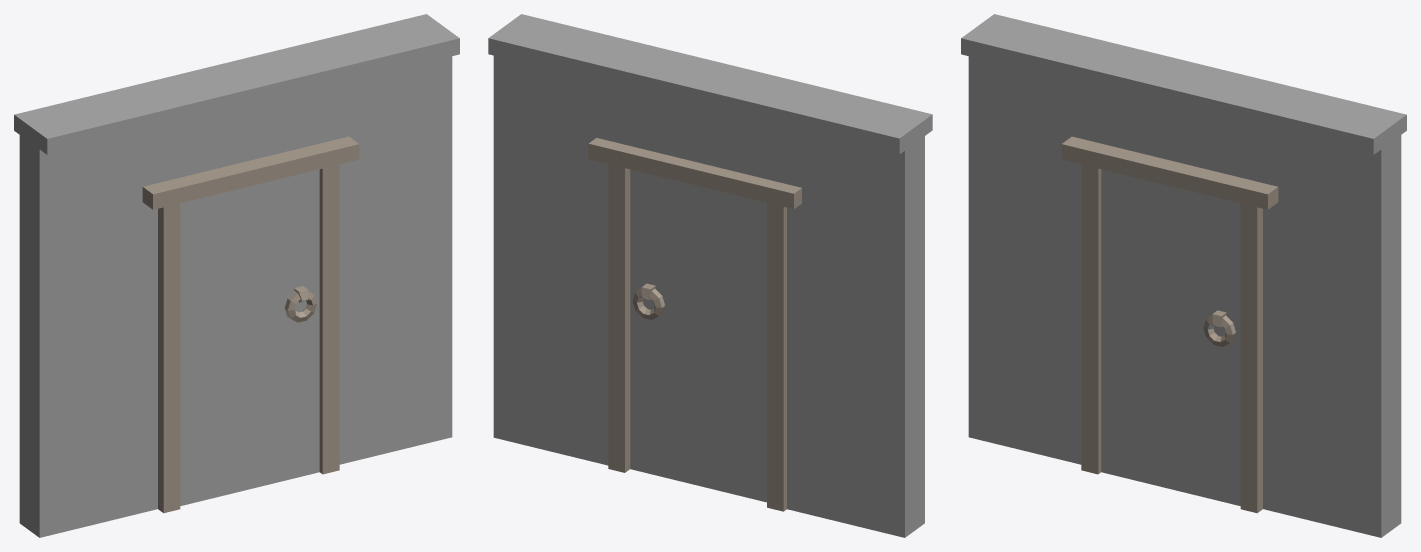
Rendered from ParedPuerta.fbx.
3 renders of one model, left to right at view 1: azimuth 30°, elevation 25°; view 2: azimuth 150°, elevation 25°; view 3: azimuth 330°, elevation 25°, orthographic.
Visible parts, largest first — view 1: polySurface798, polySurface811; view 2: polySurface798, polySurface811; view 3: polySurface798, polySurface811.
Boxes of the visible parts, bbox=[...] form: polySurface798: bbox=[14, 14, 459, 537]; polySurface811: bbox=[142, 136, 359, 513]; polySurface798: bbox=[488, 14, 932, 537]; polySurface811: bbox=[588, 138, 801, 511]; polySurface798: bbox=[961, 14, 1406, 537]; polySurface811: bbox=[1061, 136, 1278, 513].
Size of the model in its own units: 2 by 1.87 by 0.3241.
